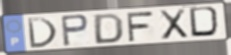D: (188, 6, 224, 39), (25, 16, 59, 49), (93, 12, 125, 45)
F: (125, 10, 155, 43)
P: (60, 13, 91, 48)
X: (157, 8, 190, 41)
